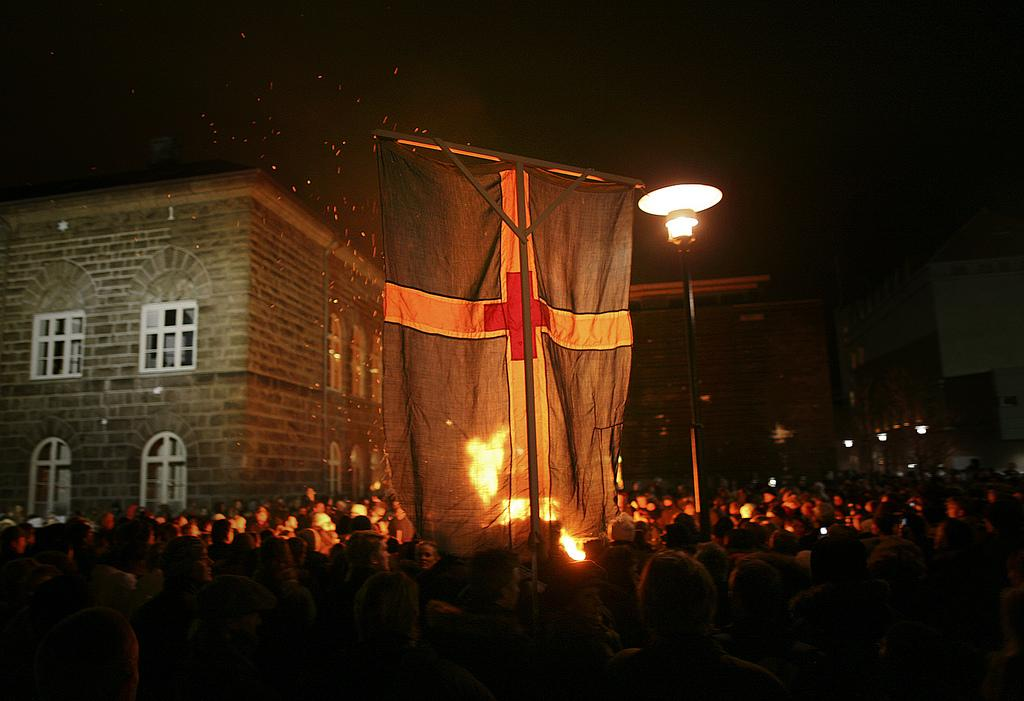fire: (460, 427, 522, 500), (553, 522, 592, 582)
